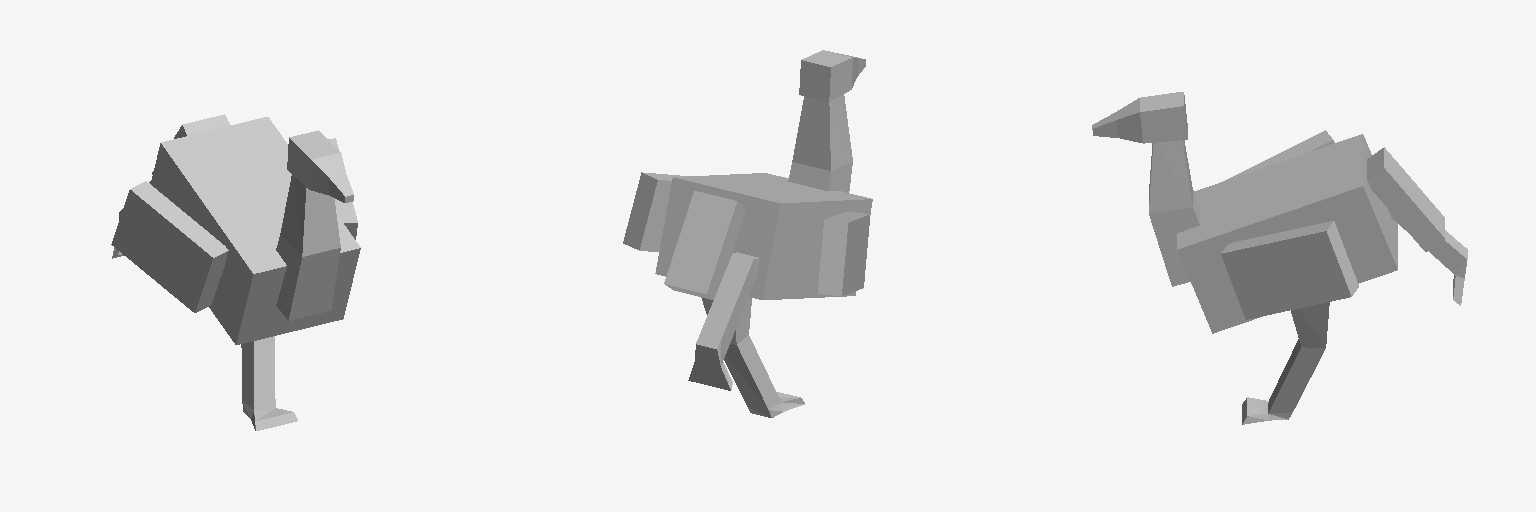
File: Ostrich_000076.obj
The picture shows the model from 3 angles: view 1: azimuth 30°, elevation 25°; view 2: azimuth 150°, elevation 25°; view 3: azimuth 270°, elevation 25°; orthographic projection.
Visible parts, largest first — view 1: Cube_Cube.001; view 2: Cube_Cube.001; view 3: Cube_Cube.001.
Part boxes in pixels (left/top/right/bottom): Cube_Cube.001: left=111, top=114, right=360, bottom=430; Cube_Cube.001: left=623, top=50, right=872, bottom=417; Cube_Cube.001: left=1092, top=92, right=1467, bottom=424.
Size of the model in its own units: 1.02 by 1.4 by 1.51.